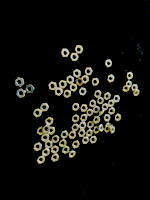nut: (14, 77, 25, 87), (16, 89, 26, 99), (54, 87, 63, 97), (33, 143, 43, 152), (25, 85, 35, 94), (75, 45, 84, 54), (63, 90, 72, 99), (48, 82, 57, 91), (51, 135, 60, 144), (51, 154, 60, 163), (37, 156, 46, 165), (47, 127, 56, 136), (41, 134, 50, 143), (45, 117, 54, 126), (37, 127, 46, 136), (40, 103, 49, 112), (33, 109, 42, 118), (67, 75, 75, 85), (45, 140, 53, 150), (105, 59, 113, 68), (70, 53, 79, 61), (61, 49, 70, 57), (91, 78, 100, 86), (94, 90, 102, 99), (76, 78, 84, 87), (69, 84, 78, 92), (59, 80, 67, 89), (80, 104, 88, 113), (72, 103, 80, 112), (81, 137, 90, 145), (72, 140, 80, 149), (68, 150, 76, 159), (61, 130, 69, 139), (62, 146, 70, 155), (43, 125, 51, 134), (113, 95, 121, 103), (108, 107, 116, 115), (85, 68, 93, 76), (97, 97, 105, 105), (93, 116, 101, 124), (79, 88, 87, 96), (89, 100, 97, 108), (90, 136, 98, 144), (87, 121, 95, 129), (80, 114, 88, 122), (79, 122, 87, 130), (78, 130, 86, 138), (72, 115, 80, 123), (71, 124, 79, 132), (69, 132, 77, 140), (59, 140, 67, 148), (51, 146, 59, 154), (42, 149, 50, 157), (98, 124, 105, 133), (82, 75, 89, 84), (74, 69, 81, 78), (133, 90, 141, 97), (132, 84, 139, 92), (127, 72, 134, 80), (123, 85, 131, 92), (108, 75, 115, 83), (108, 100, 115, 108), (115, 114, 122, 122), (104, 93, 111, 101), (102, 103, 109, 111), (103, 115, 111, 122), (93, 126, 100, 134), (87, 109, 94, 117), (86, 130, 94, 137), (126, 81, 133, 88), (98, 110, 105, 117), (109, 127, 116, 134), (94, 106, 100, 114), (104, 126, 110, 133), (106, 123, 114, 128)
